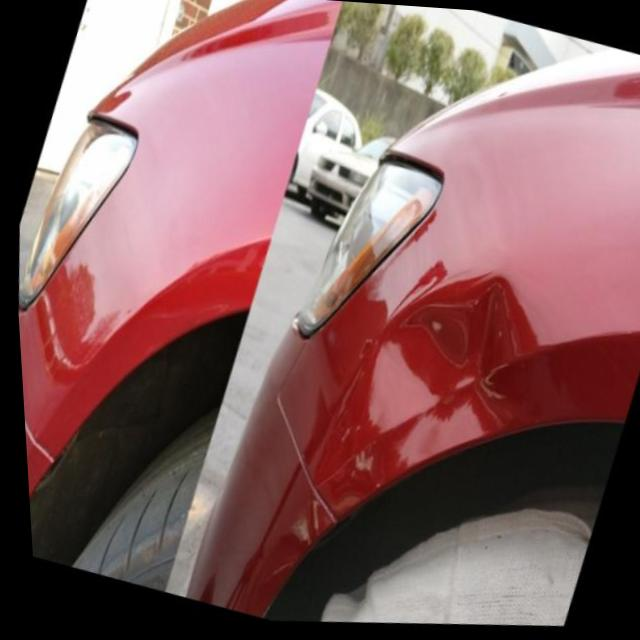Dent: (318, 222, 588, 509)
